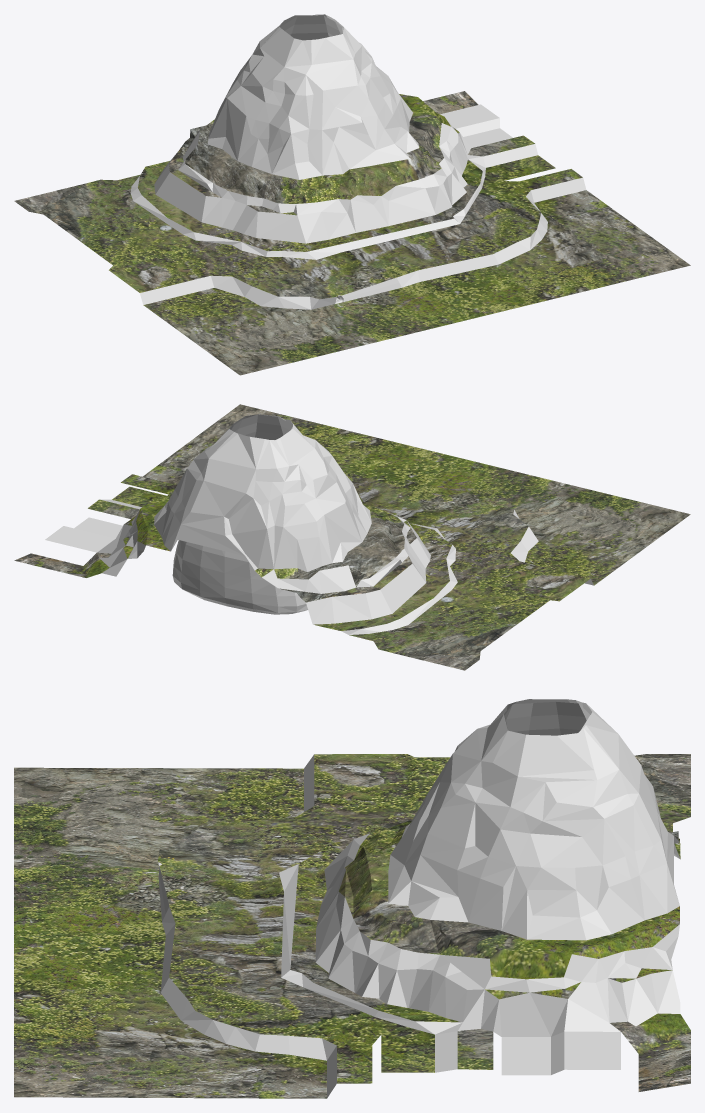
The model's file is Mountain_and_Arena.fbx.
3 views of the same model, one above another, from view 1: azimuth 30°, elevation 25°; view 2: azimuth 150°, elevation 25°; view 3: azimuth 270°, elevation 25° (orthographic). The views are drawn at different scales.
Parts seen in each view (by area): view 1: Mountain, Arena; view 2: Mountain, Arena; view 3: Mountain, Arena.
Boxes of the visible parts, x1=… form: Mountain: x1=14, y1=14, x2=690, y2=375; Arena: x1=280, y1=15, x2=343, y2=303; Mountain: x1=14, y1=404, x2=690, y2=670; Arena: x1=172, y1=414, x2=496, y2=614; Mountain: x1=14, y1=699, x2=690, y2=1098; Arena: x1=158, y1=701, x2=590, y2=866.
Bounding box in the file's own units: 14254 × 4812 × 12367.
Materials: 3 (1 with a texture image).
